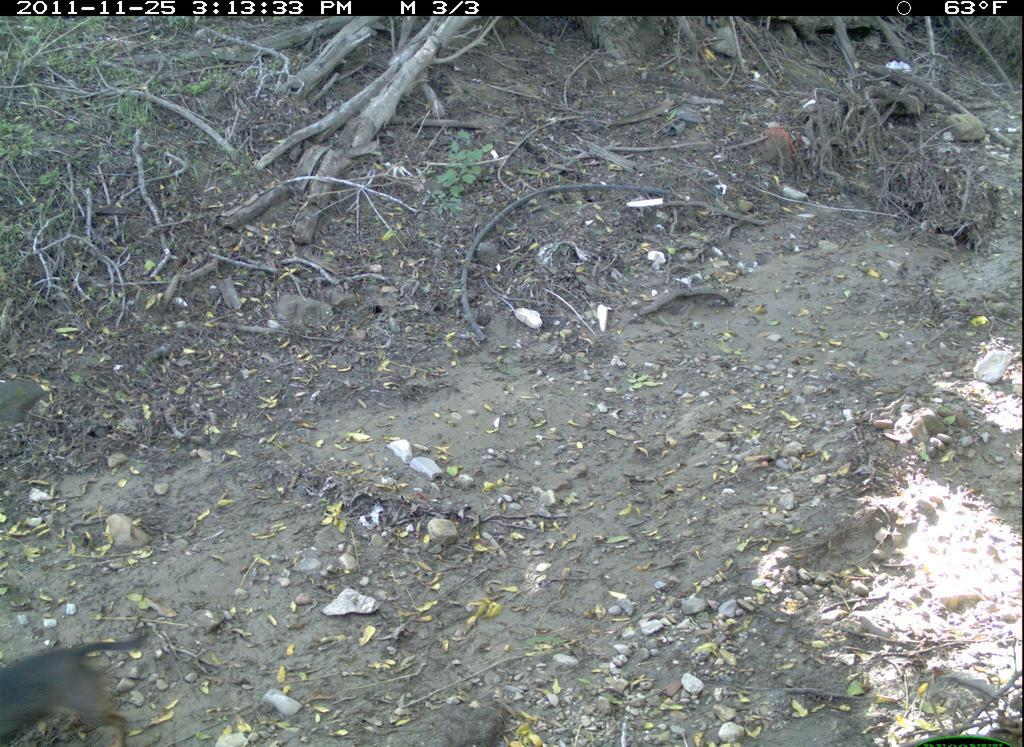dog: (1, 605, 173, 741)
